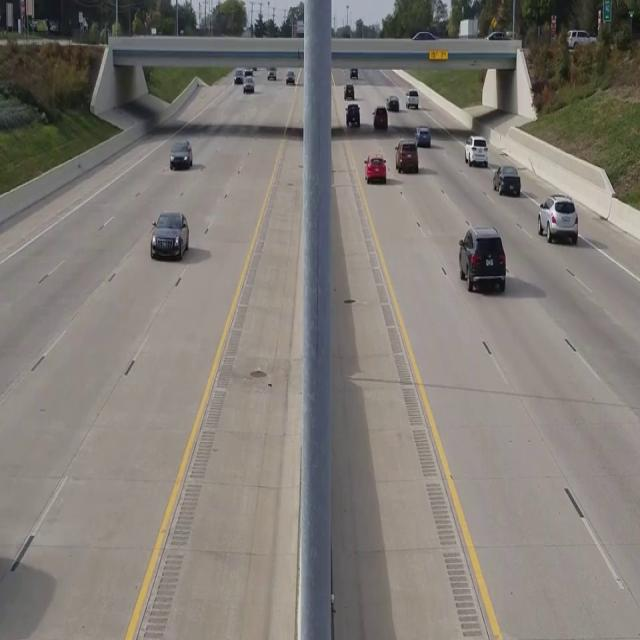car: (459, 224, 506, 293), (537, 194, 578, 244), (150, 211, 189, 260), (492, 164, 520, 196), (169, 138, 193, 170), (566, 28, 596, 50)
